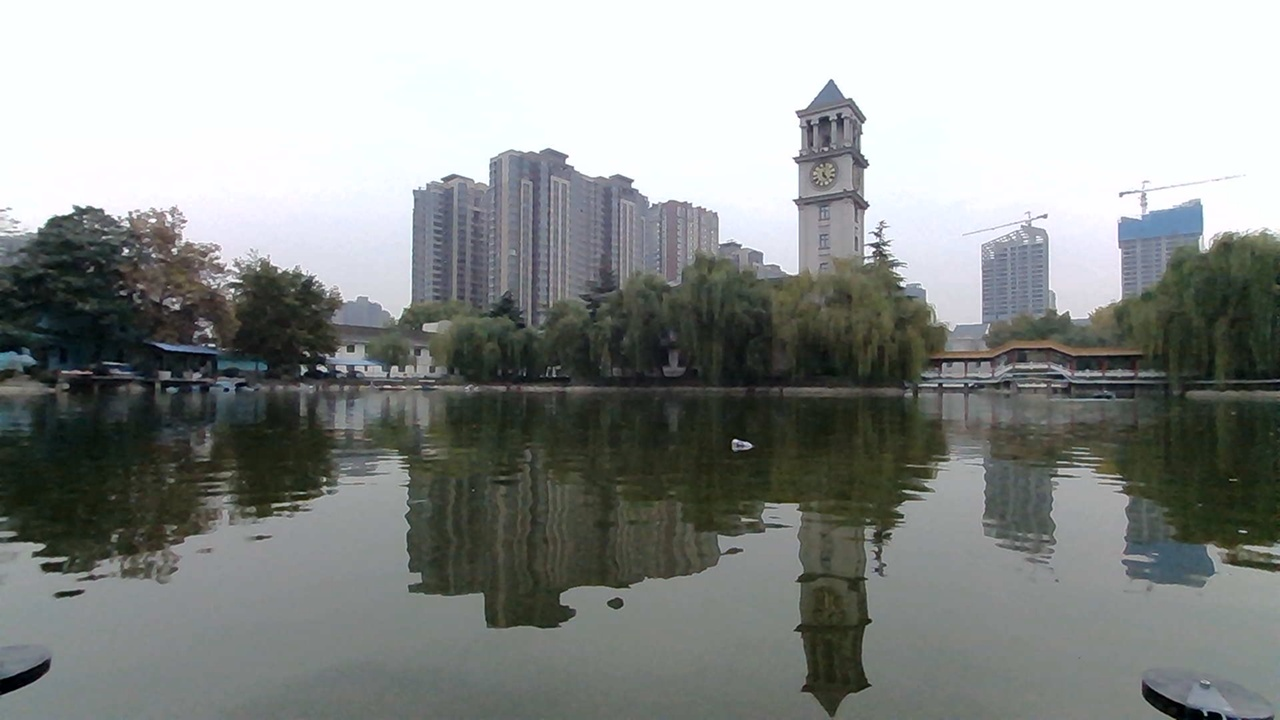bottle: (721, 427, 760, 457)
